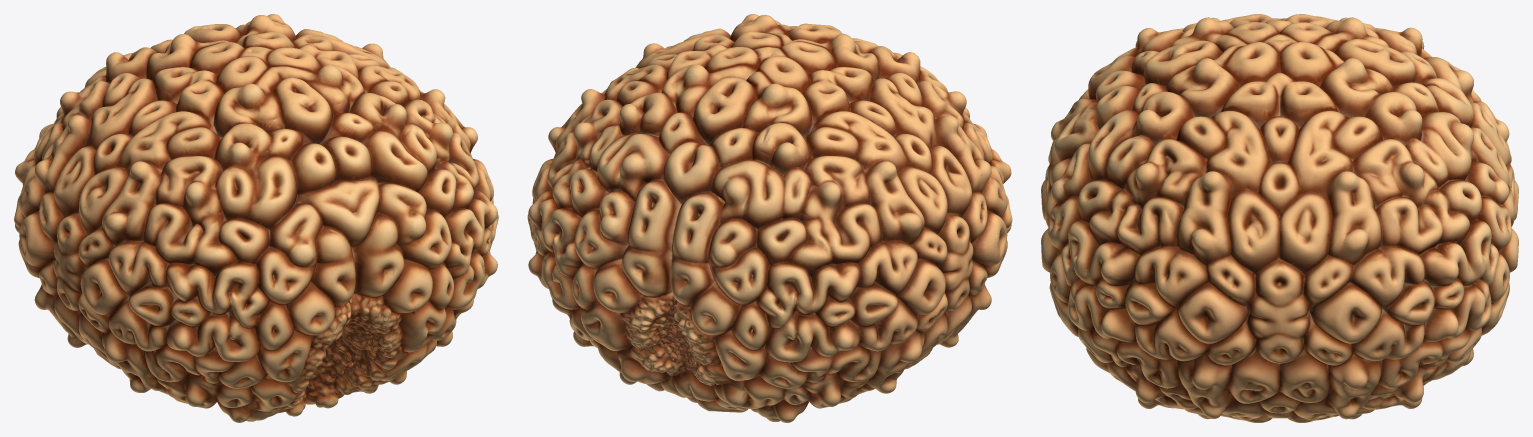
Rendered from brain_coral.glb.
3 renders of one model, left to right at view 1: azimuth 30°, elevation 25°; view 2: azimuth 150°, elevation 25°; view 3: azimuth 270°, elevation 25°, orthographic. The views are drawn at different scales.
Bounding box in the file's own units: 1.9 × 1.53 × 1.83.
Materials: 1 (1 with a texture image).
